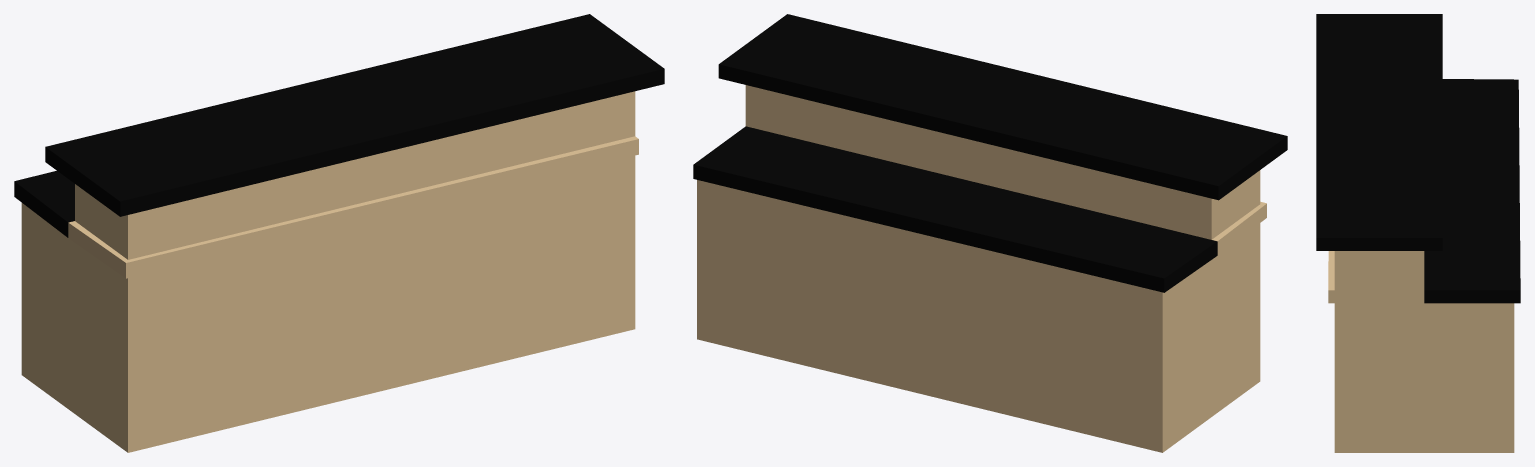
The model's file is obj.house1.fbx.
The picture shows the model from 3 angles, left to right: view 1: azimuth 30°, elevation 25°; view 2: azimuth 150°, elevation 25°; view 3: azimuth 270°, elevation 25°; orthographic projection. The views are drawn at different scales.
Visible parts, largest first — view 1: Cube.009; view 2: Cube.009; view 3: Cube.009.
Part boxes in pixels (x1,y1,x2,y2): Cube.009: (14,14,664,452); Cube.009: (693,14,1287,452); Cube.009: (1316,14,1520,452).
Bounding box in the file's own units: 1079 × 500 × 415.
